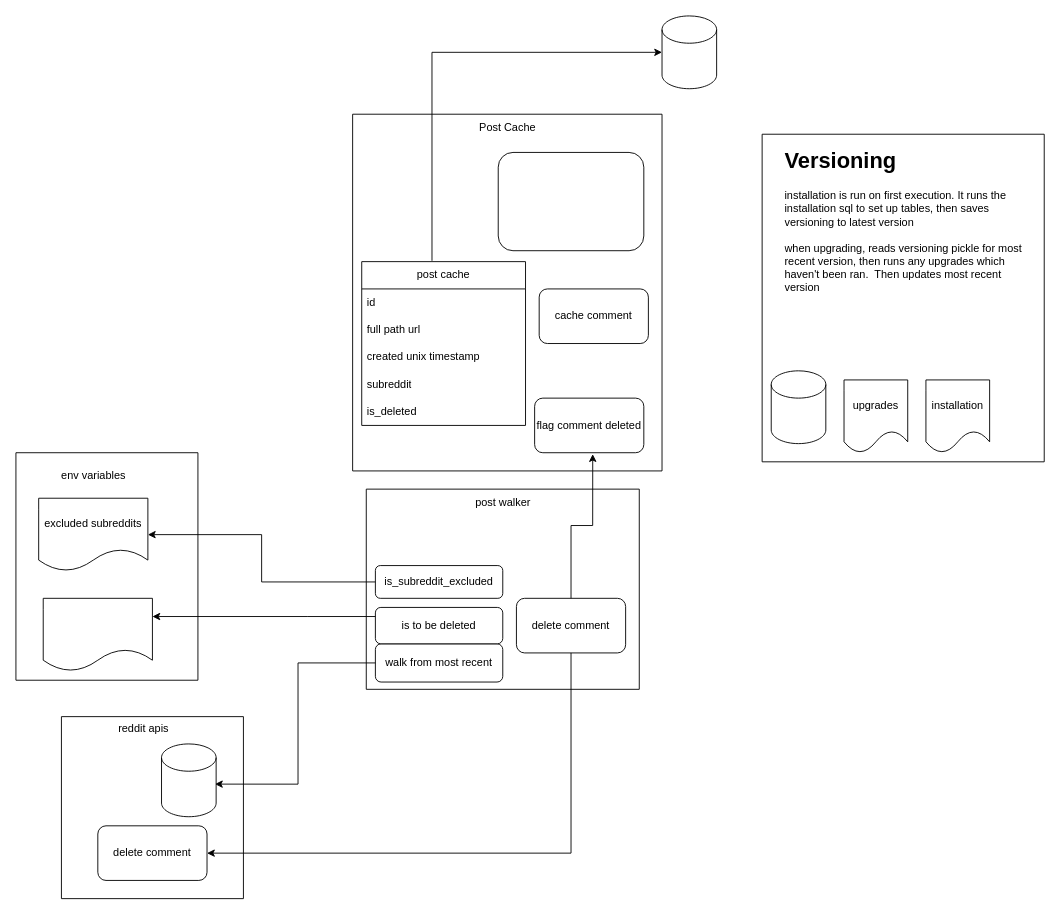
This 1060x915 diagram has some shape labels left out. Each missing label, with the centre of its shape:
"comment delete days" belongs at [97,634].
"get stop point select most recent" belongs at [570,201].
"state sqlite3" belongs at [689,52].
"user comments (latest)" belongs at [188,780].
"versioning pickle file" belongs at [798,407].
